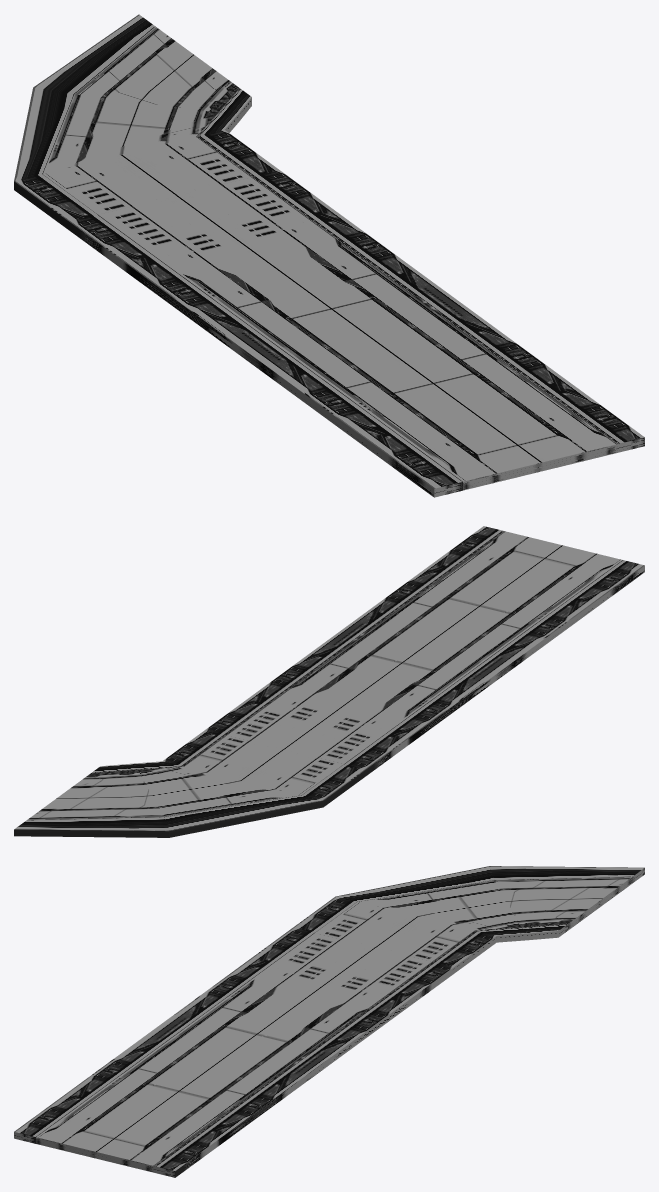
File: RoadTrunRight.fbx
3 views of the same model, one above another, from view 1: azimuth 30°, elevation 25°; view 2: azimuth 150°, elevation 25°; view 3: azimuth 330°, elevation 25° (orthographic). The views are drawn at different scales.
Parts seen in each view (by area): view 1: Cube; view 2: Cube; view 3: Cube.
Boxes of the visible parts, x1=… form: Cube: x1=14, y1=14, x2=644, y2=497; Cube: x1=14, y1=526, x2=644, y2=837; Cube: x1=14, y1=866, x2=644, y2=1177.
Bounding box in the file's own units: 1256 × 40 × 4602.
